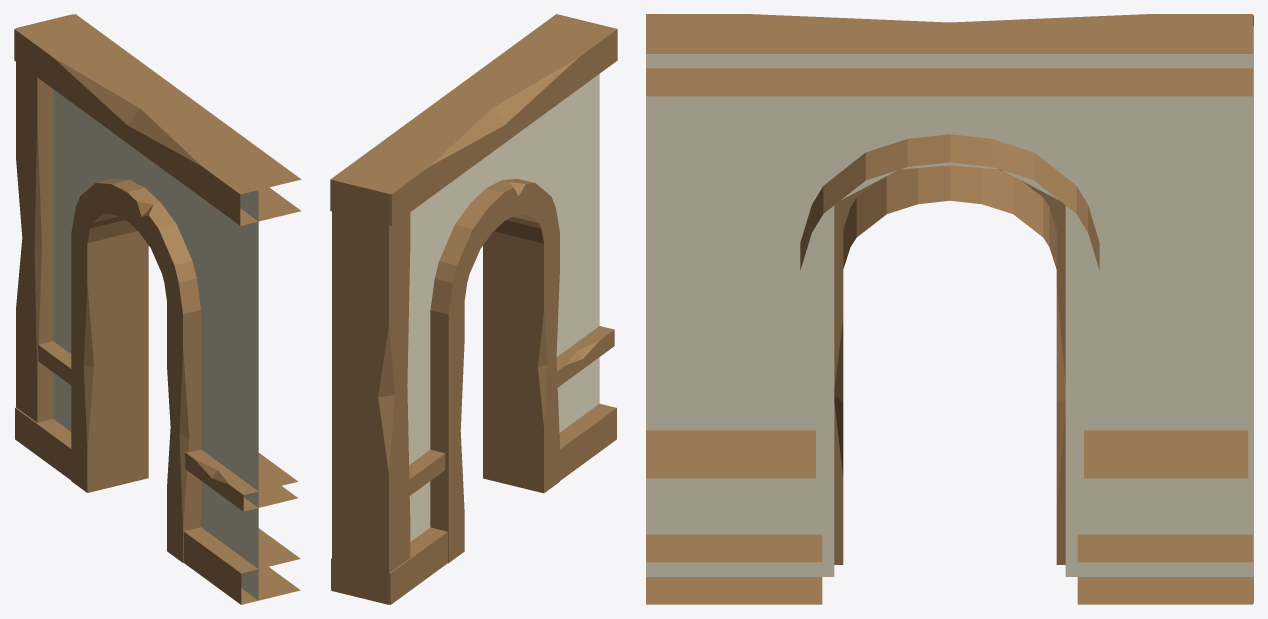
The model's file is SFV_Door_Wall_Wooden_Empty_003.fbx.
3 views of the same model, side by side, from view 1: azimuth 30°, elevation 25°; view 2: azimuth 150°, elevation 25°; view 3: azimuth 270°, elevation 25° (orthographic). The views are drawn at different scales.
Visible parts, largest first — view 1: SFV_Door_Wall_Wooden_Empty_003; view 2: SFV_Door_Wall_Wooden_Empty_003; view 3: SFV_Door_Wall_Wooden_Empty_003.
Boxes of the visible parts, left/top/right/bottom form: SFV_Door_Wall_Wooden_Empty_003: left=14, top=14, right=301, bottom=604; SFV_Door_Wall_Wooden_Empty_003: left=330, top=14, right=617, bottom=604; SFV_Door_Wall_Wooden_Empty_003: left=646, top=14, right=1253, bottom=604.
Size of the model in its own units: 46.87 by 300 by 300.
